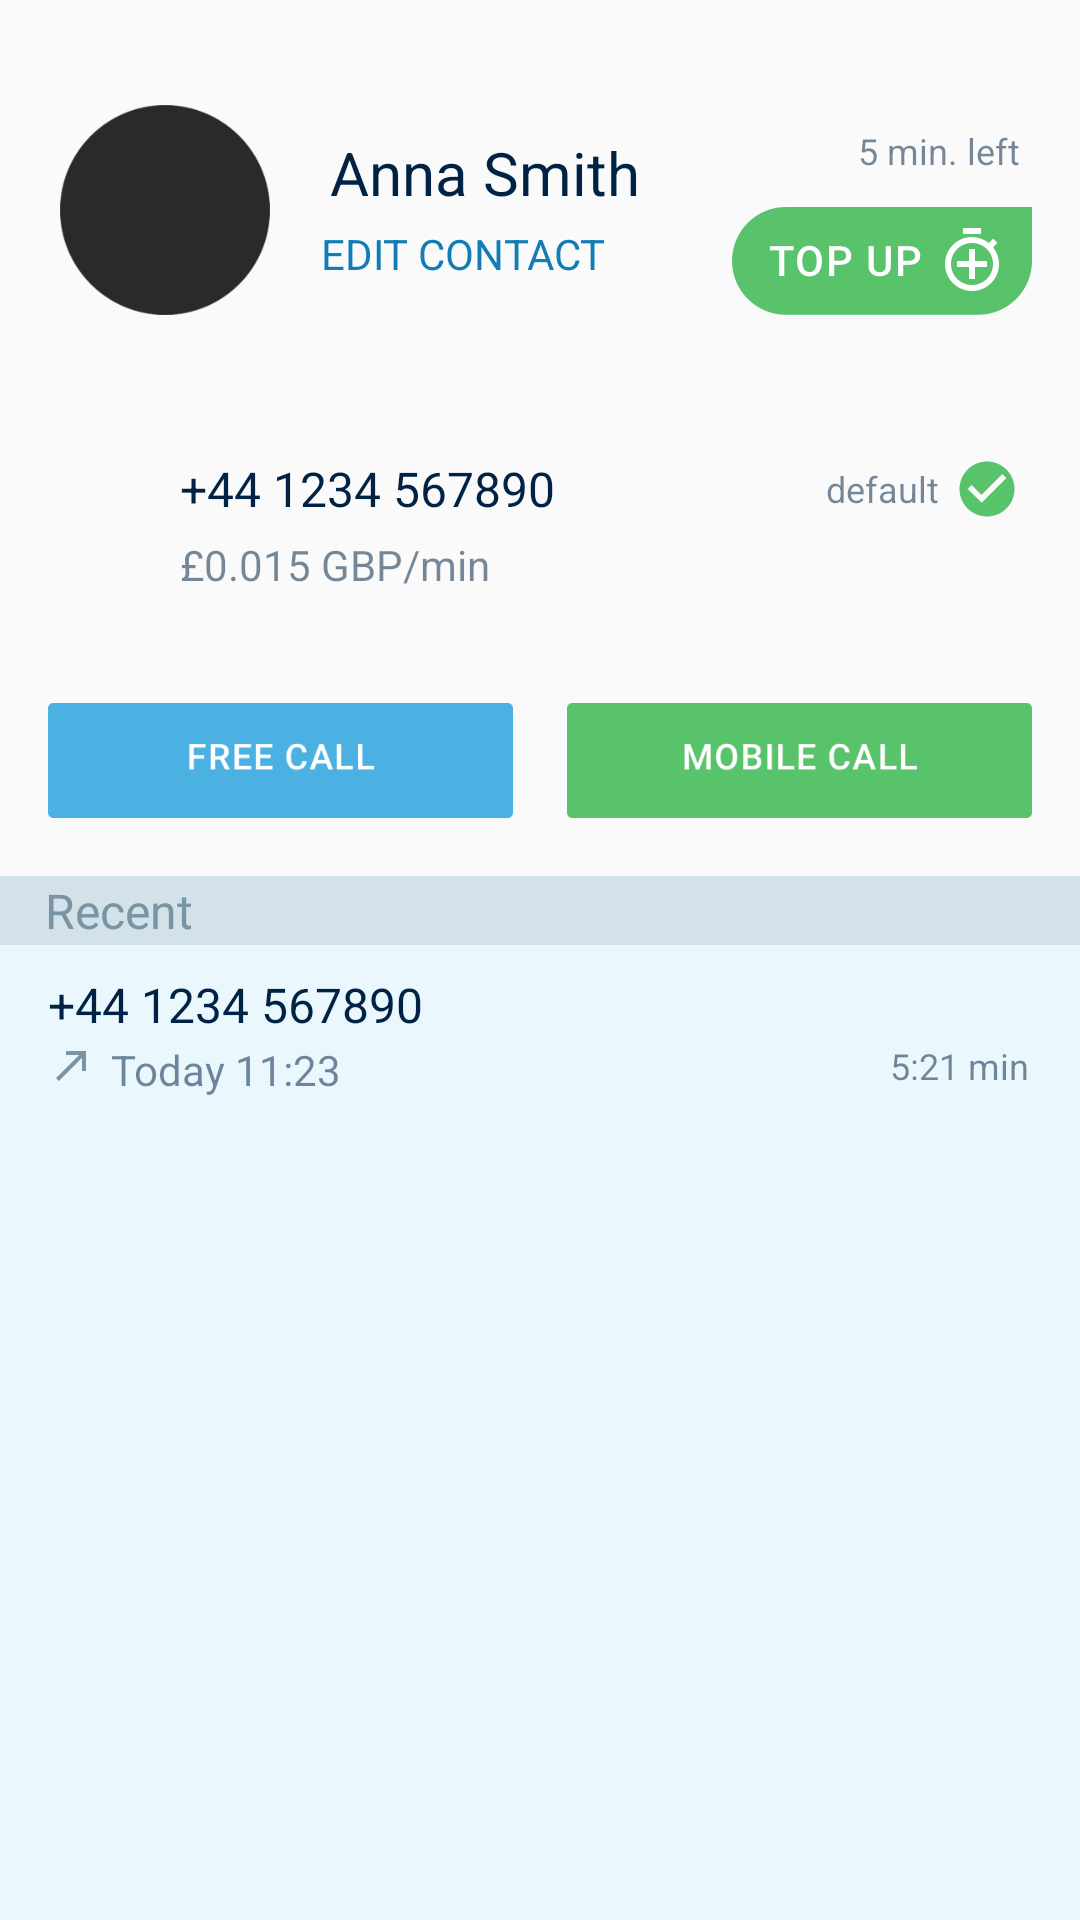

Named icons in this screenshot (1080 x 1920) and their bounding boxes, [x1, y1, x2, y2]:
call made: [56, 1051, 86, 1081]
check circle: [959, 461, 1015, 517]
